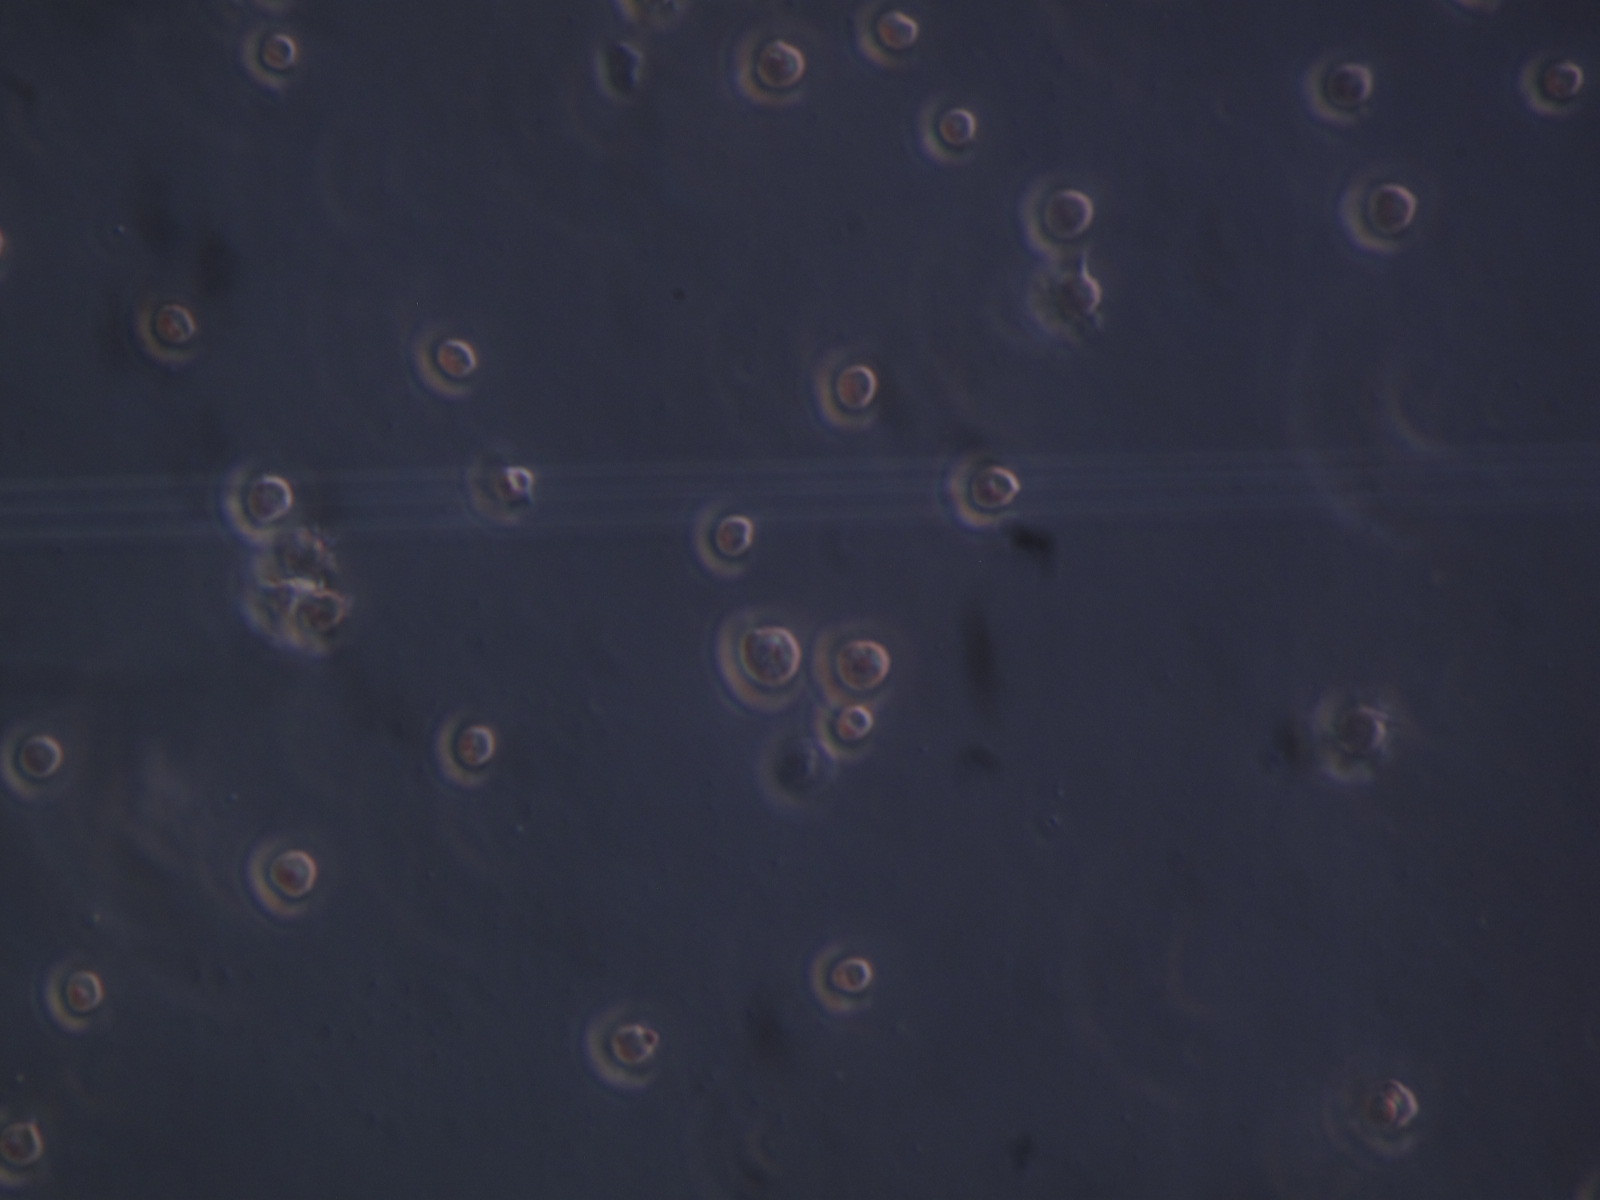hemo: (716, 613, 809, 712), (1335, 164, 1420, 260), (1310, 691, 1395, 780), (1031, 253, 1107, 345), (815, 621, 894, 708), (736, 26, 813, 113), (581, 1005, 656, 1093), (464, 442, 537, 527), (941, 455, 1019, 529), (249, 841, 320, 923), (1015, 178, 1095, 250), (687, 498, 755, 579), (814, 350, 879, 434), (1351, 1076, 1422, 1150), (1305, 53, 1374, 127), (436, 705, 496, 788), (229, 466, 294, 545), (1, 729, 66, 805), (1519, 47, 1587, 117), (40, 955, 102, 1031), (852, 1, 923, 66), (921, 89, 978, 166), (805, 948, 876, 1010), (816, 698, 882, 763), (140, 299, 200, 366), (417, 332, 476, 397), (243, 24, 301, 91), (1, 1111, 48, 1185)
